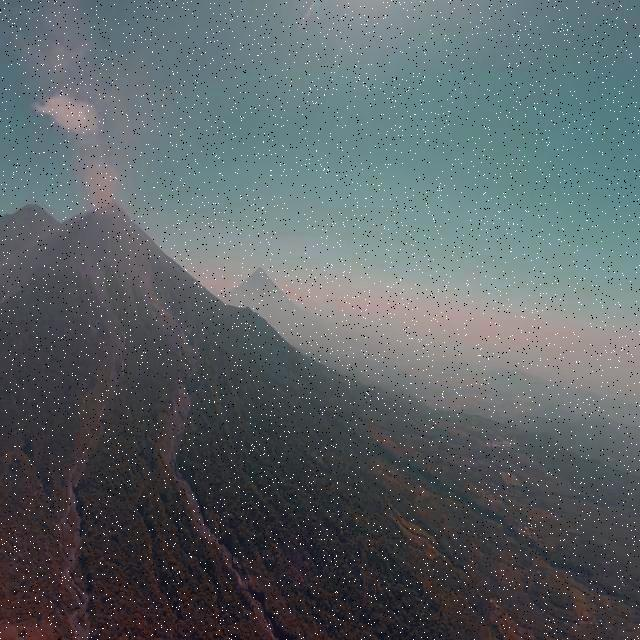Plume: (32, 82, 128, 218)
Summit: (67, 192, 143, 235)
